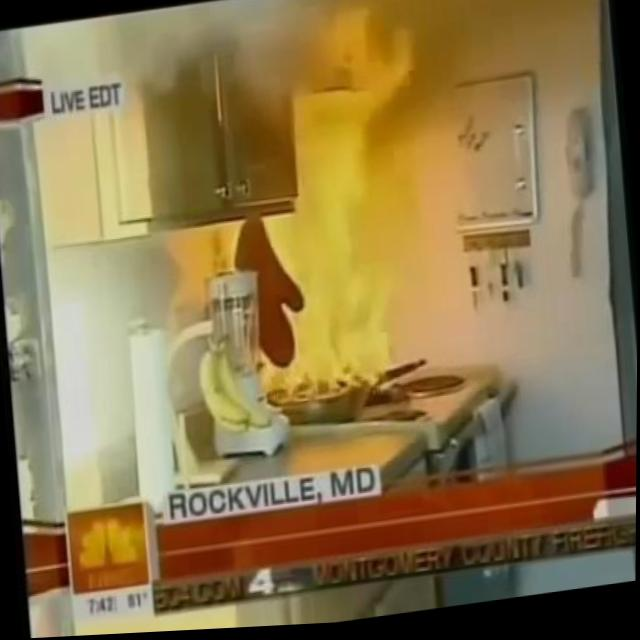fire: (223, 0, 440, 416)
